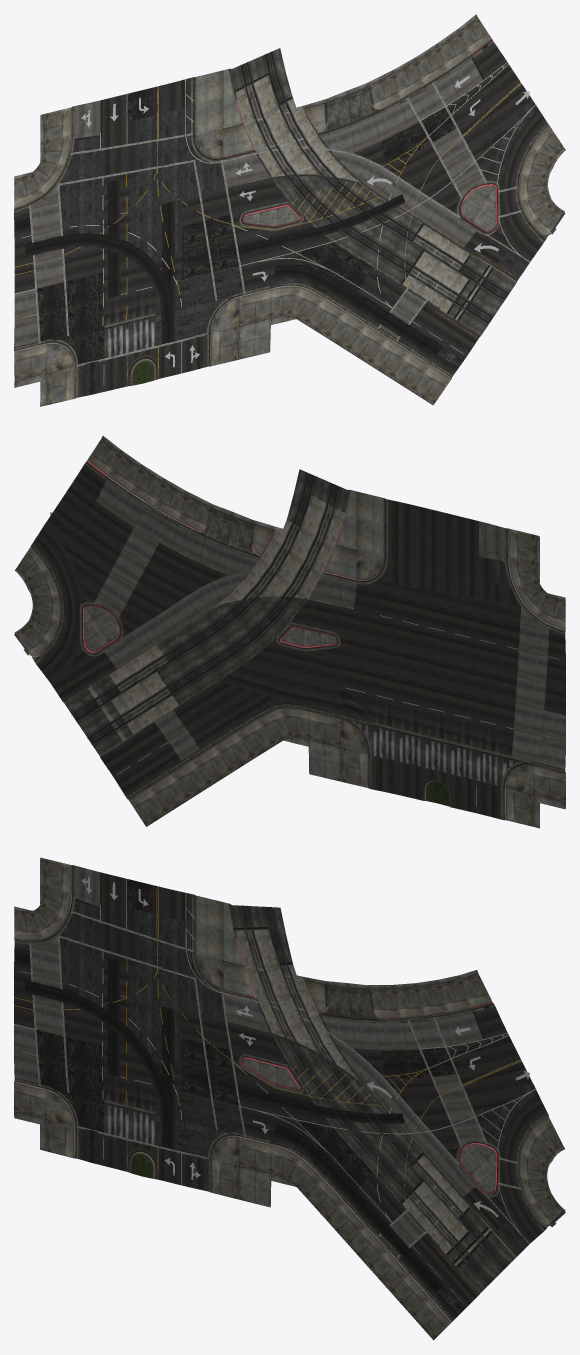
3 renders of one model, top to bottom at view 1: azimuth 30°, elevation 25°; view 2: azimuth 150°, elevation 25°; view 3: azimuth 330°, elevation 25°, orthographic.
Visible parts, largest first — view 1: sc1_rd_r1_04; view 2: sc1_rd_r1_04; view 3: sc1_rd_r1_04.
Boxes of the visible parts, x1,y1,x2,y2 form: sc1_rd_r1_04: (14, 14, 565, 406); sc1_rd_r1_04: (14, 435, 565, 828); sc1_rd_r1_04: (14, 857, 565, 1340).
Bounding box in the file's own units: 11453 × 7842 × 63.28.
